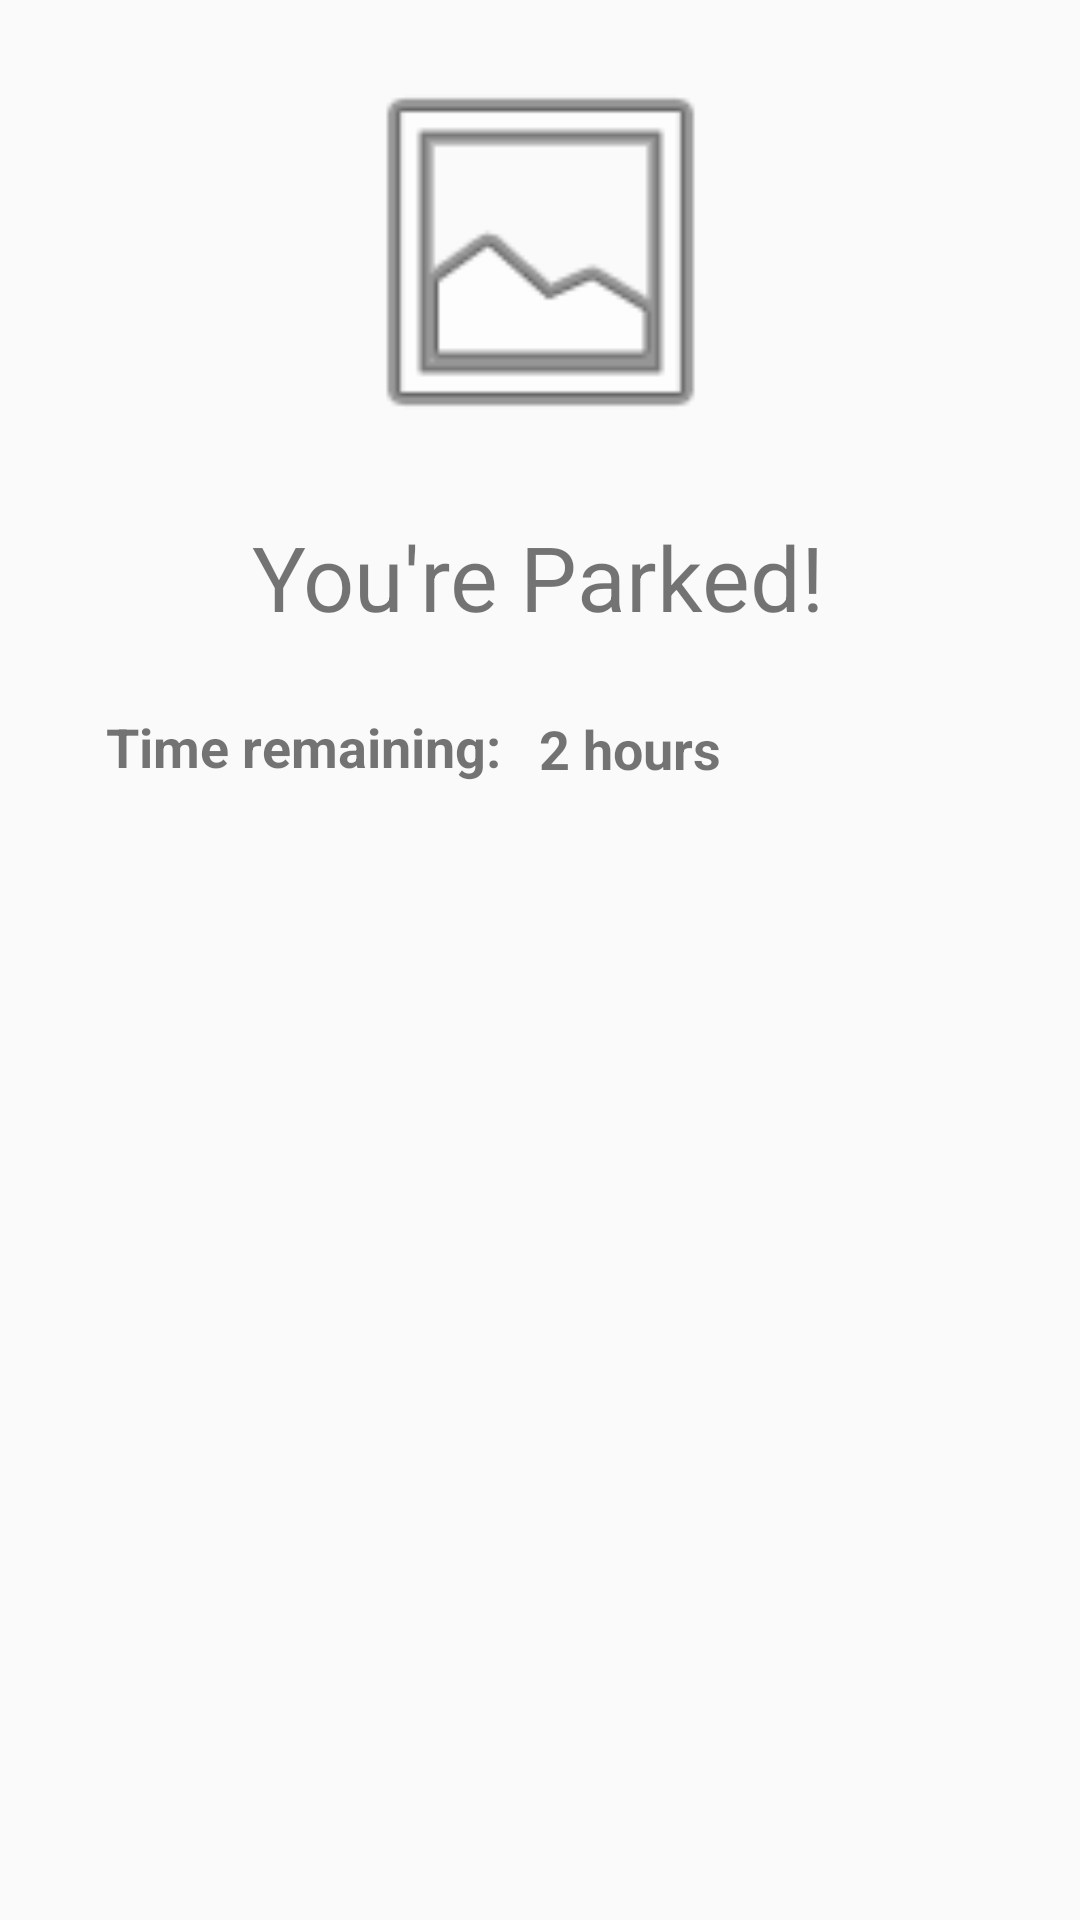

Screen size 1080x1920. Icon name, then its box in pixels as box=[x1, y1, x2, y2]:
gallery: box=[386, 98, 695, 406]
